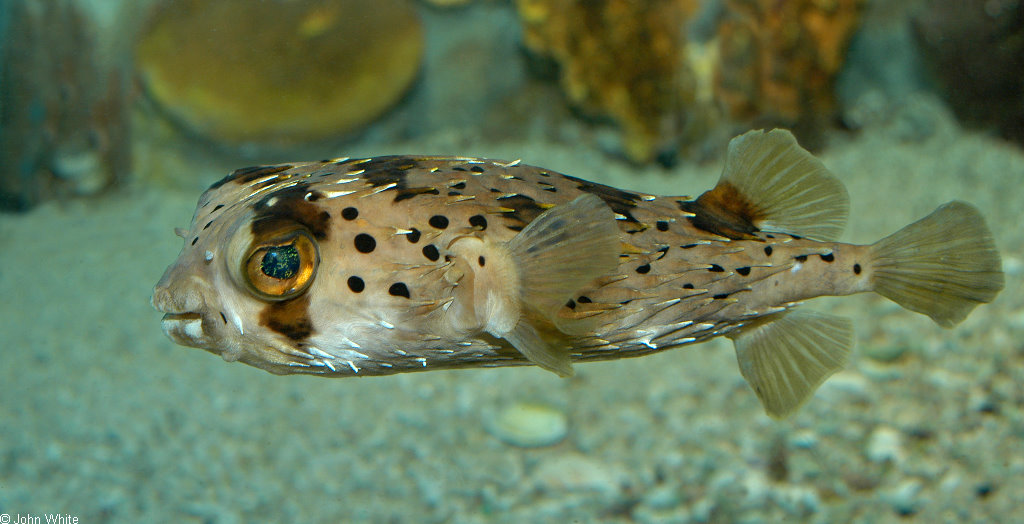Diodon_holocanthus: (108, 100, 1024, 449)
